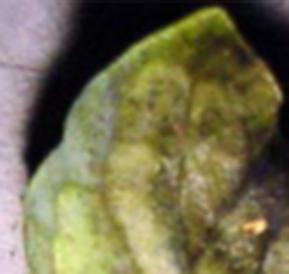Tomato leaf late blight: (0, 11, 289, 274)
